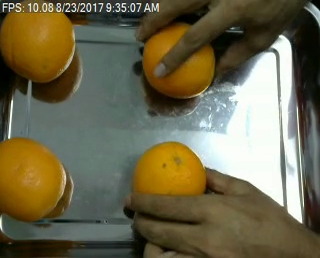Orange: (2, 136, 68, 220), (1, 13, 75, 82)
